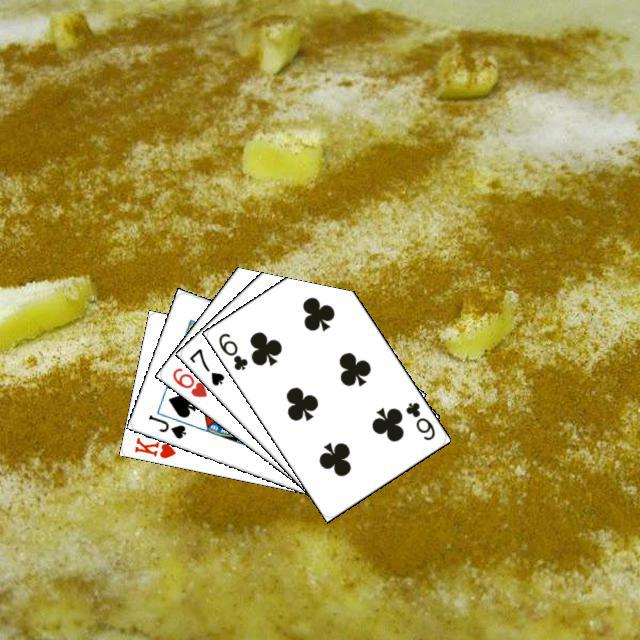6c: (400, 397, 437, 442), (213, 328, 250, 372)
6h: (167, 363, 209, 399)
7s: (184, 343, 226, 388)
Js: (143, 410, 188, 440)
Kh: (129, 428, 184, 460)
